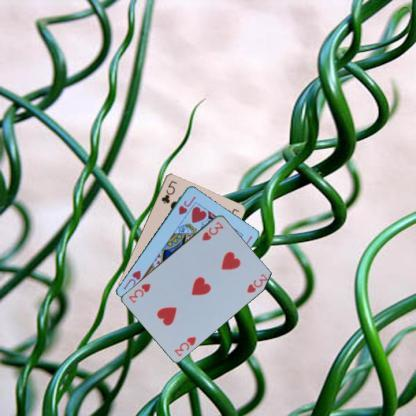3h: (172, 333, 197, 358), (199, 219, 224, 242)
5c: (159, 178, 178, 204)
Jh: (176, 193, 198, 216)
